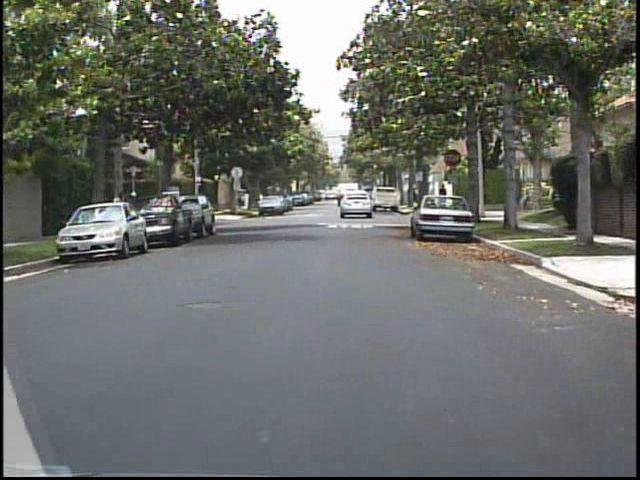person: (111, 189, 129, 232), (434, 180, 451, 213)
